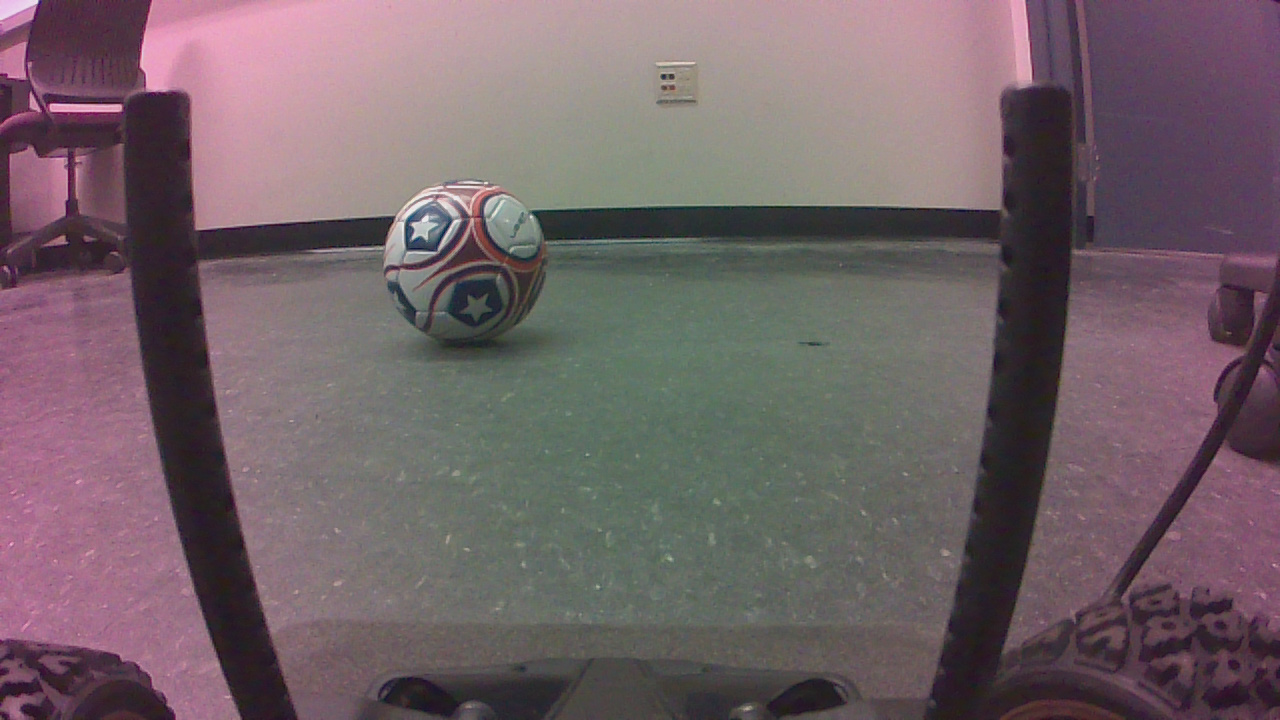ball: (384, 181, 556, 353)
